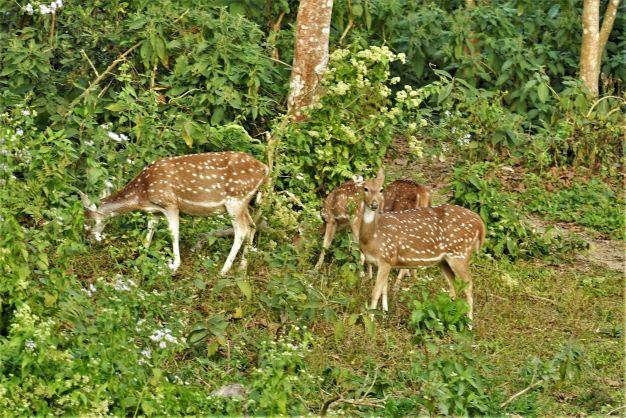Deer: (81, 152, 268, 273), (355, 168, 484, 319)
